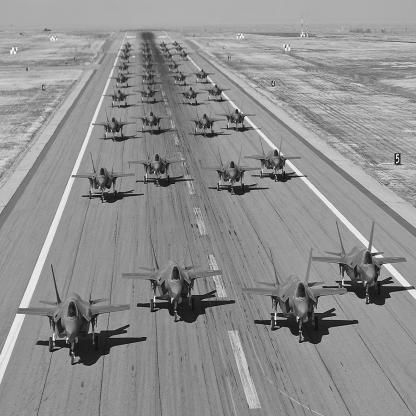F35: (18, 263, 131, 366), (241, 248, 349, 344), (122, 233, 223, 323), (313, 221, 408, 305), (73, 152, 136, 204), (201, 146, 262, 196), (129, 140, 188, 188), (245, 137, 302, 183), (93, 107, 137, 143), (184, 105, 227, 139), (131, 102, 173, 136), (216, 100, 257, 133), (104, 83, 137, 110), (174, 81, 208, 107), (200, 78, 232, 103), (134, 80, 165, 105), (109, 68, 137, 89), (167, 66, 194, 87), (136, 65, 162, 86), (190, 65, 216, 85), (112, 58, 136, 76), (163, 56, 186, 74), (137, 57, 160, 73), (116, 50, 136, 65), (138, 50, 158, 63), (176, 48, 194, 62), (160, 50, 177, 63), (118, 46, 136, 57), (173, 44, 188, 55), (159, 44, 174, 55), (138, 45, 155, 54), (121, 41, 136, 50), (157, 41, 171, 50), (139, 40, 153, 48), (171, 40, 184, 48)
